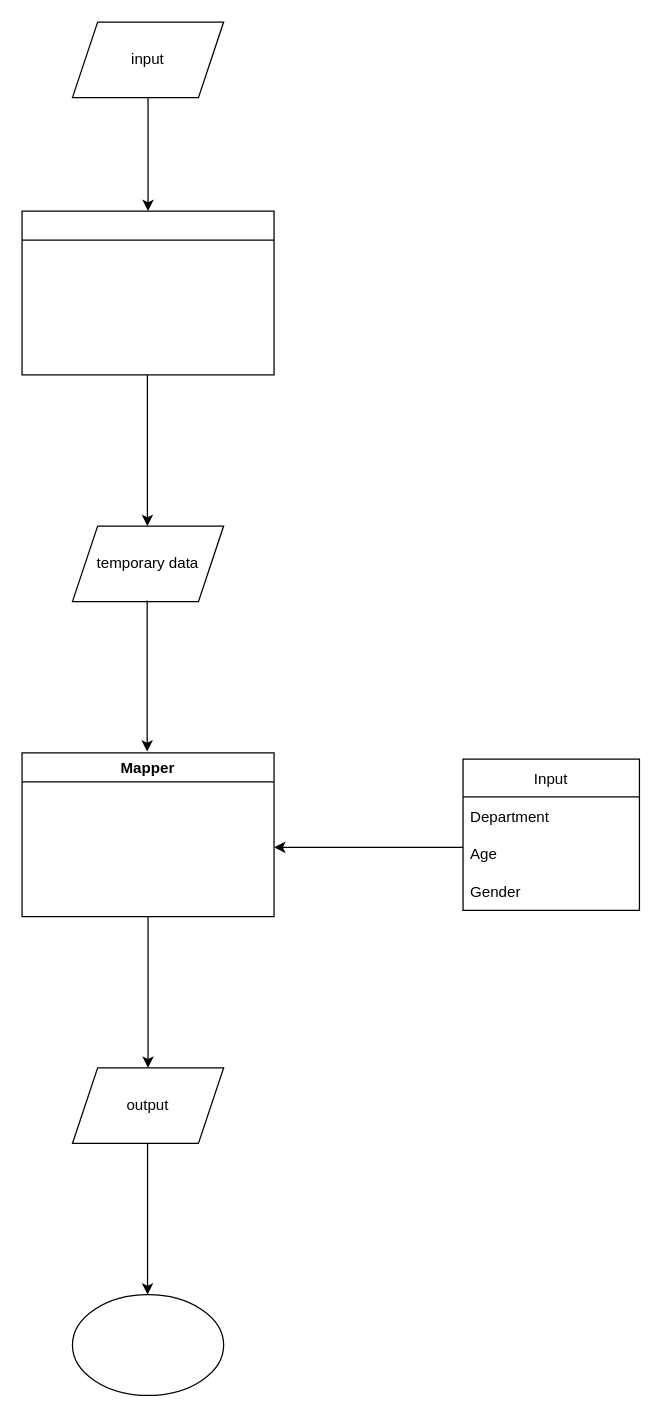
Image size: 662x1418. Some labels were removed from this diagram. The centre of each missing label's shape, as x and y in pixels:
"Converter" belongs at pixel 147 292.
"Dashboard" belongs at pixel 147 1344.
